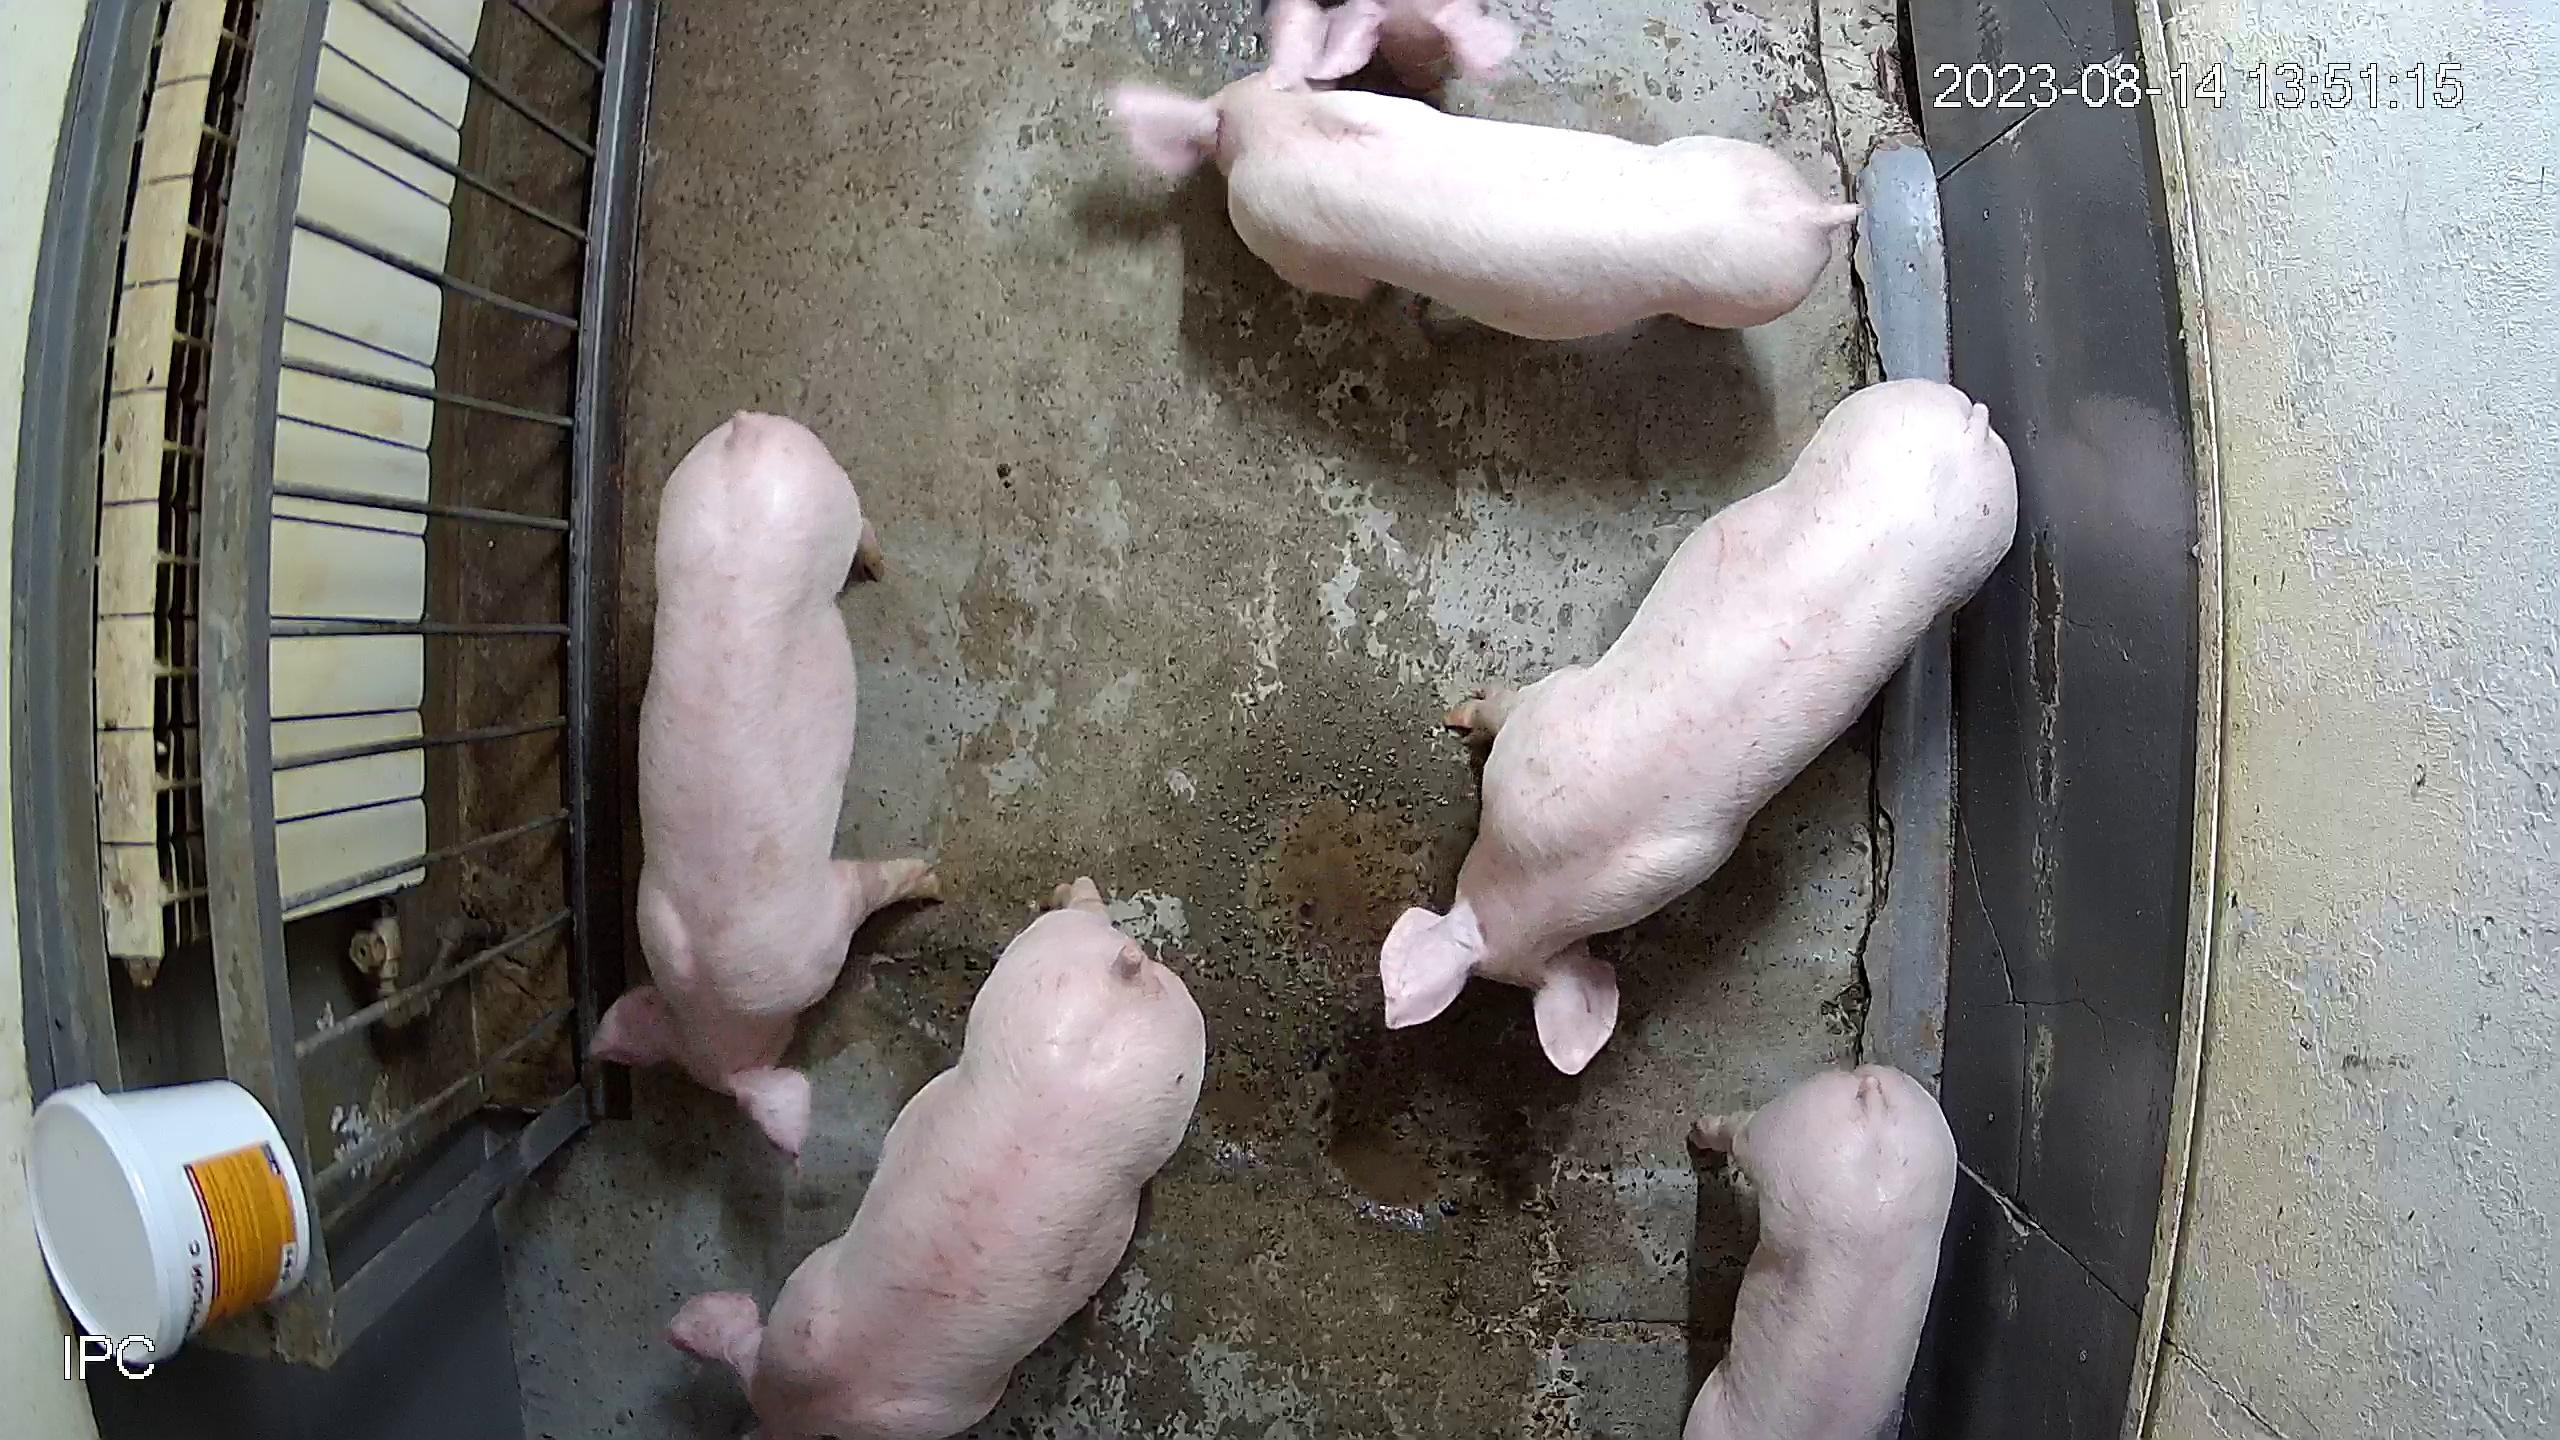Pig: (1380, 376, 2018, 1074), (666, 876, 1204, 1438), (594, 410, 935, 1157), (1109, 0, 1858, 336), (1686, 1064, 1960, 1440), (1308, 0, 1517, 88)
